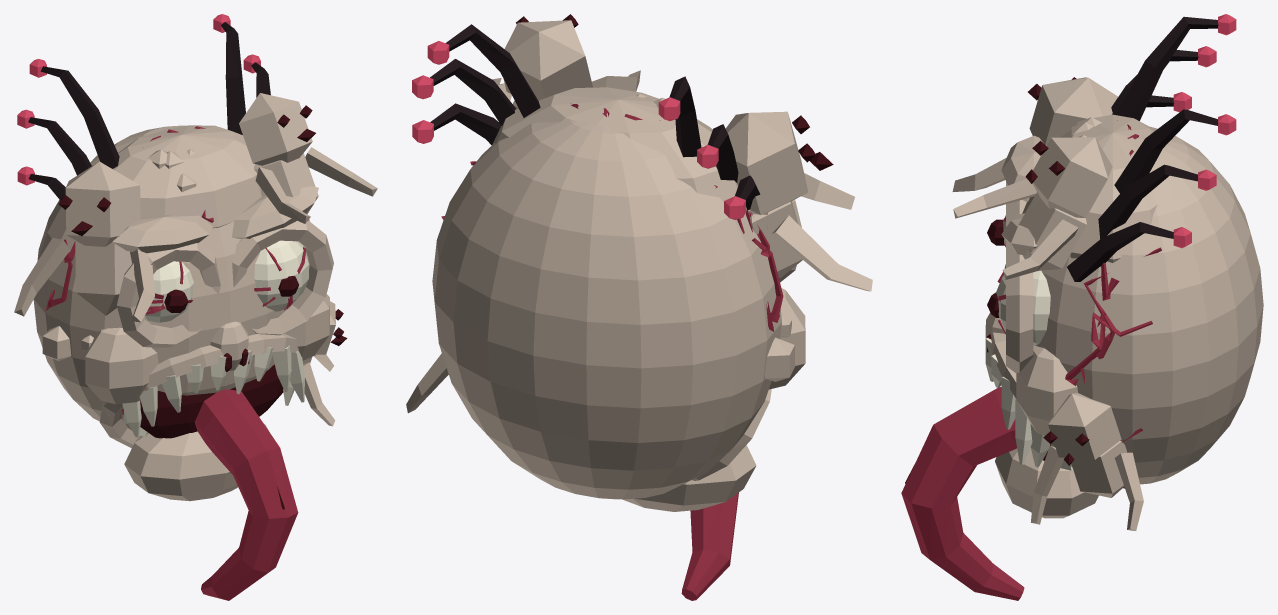
The model's file is Bloom_Face.fbx.
3 views of the same model, side by side, from view 1: azimuth 30°, elevation 25°; view 2: azimuth 150°, elevation 25°; view 3: azimuth 270°, elevation 25° (orthographic). The views are drawn at different scales.
Visible parts, largest first — view 1: Bloom_Face; view 2: Bloom_Face; view 3: Bloom_Face.
Boxes of the visible parts, x1,y1,x2,y2 form: Bloom_Face: [14, 14, 377, 600]; Bloom_Face: [406, 14, 872, 600]; Bloom_Face: [901, 14, 1263, 600].
Bounding box in the file's own units: 0.6791 × 0.918 × 0.5526.
